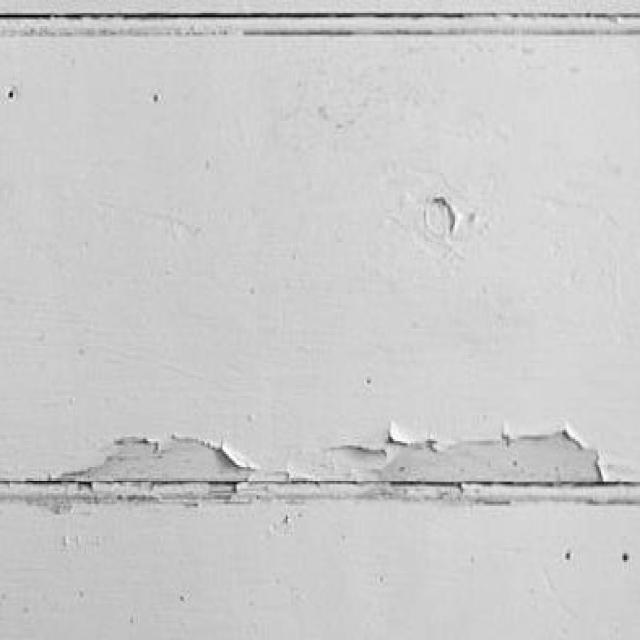peeling paint: (26, 404, 640, 536)
